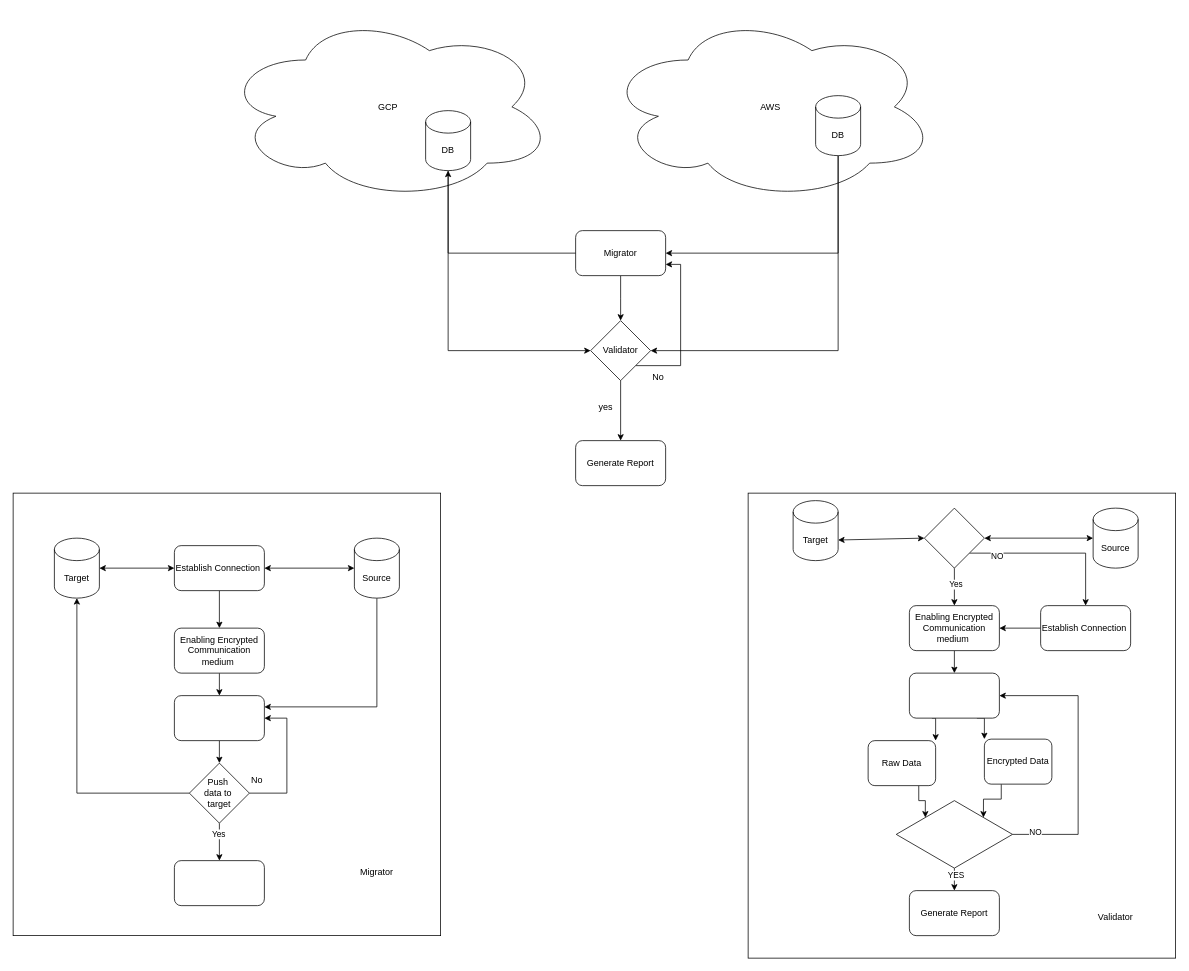
The diagram is 1189 pixels wide and 971 high, and some of its shapes have lost their labels. The shapes that lost their labels are listed below. From the top down, each one's centre as x and y in pixels, then its label:
(x=954, y=537): check connection
(x=954, y=695): Get data from both source & target
(x=219, y=718): Get data from source
(x=954, y=834): Validate data rows, hash, etc.
(x=219, y=883): Proceed to Data Validation
